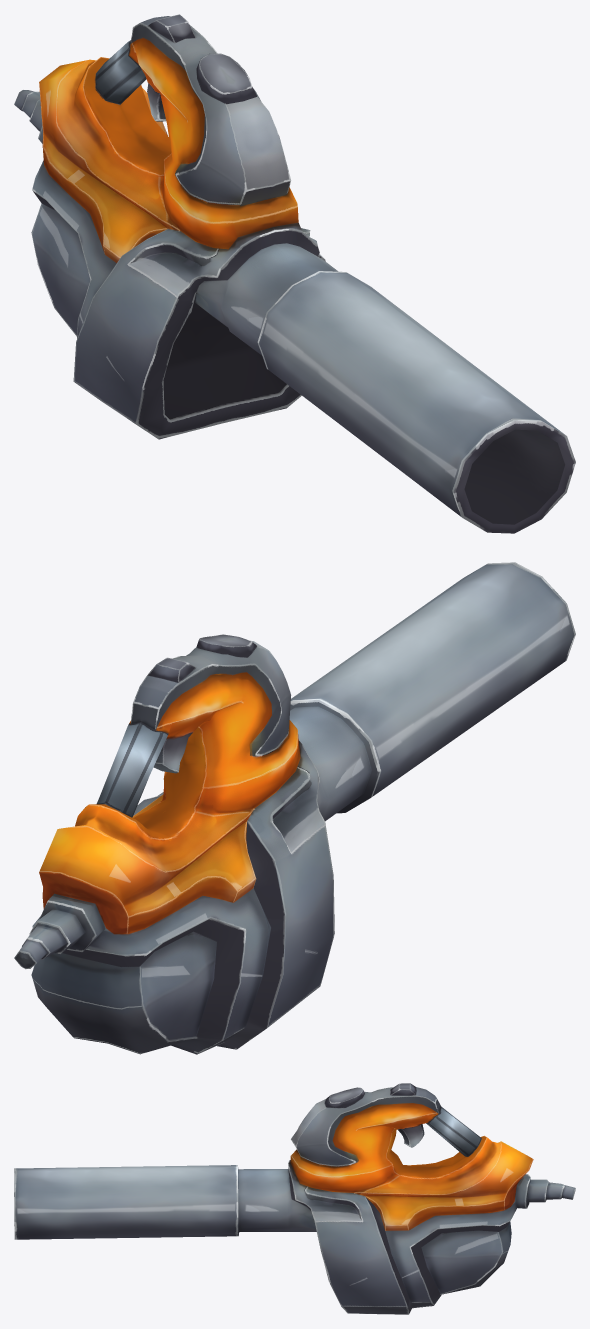
3 views of the same model, one above another, from view 1: azimuth 30°, elevation 25°; view 2: azimuth 150°, elevation 25°; view 3: azimuth 270°, elevation 25° (orthographic). The views are drawn at different scales.
Parts seen in each view (by area): view 1: Plane; view 2: Plane; view 3: Plane.
Boxes of the visible parts, x1,y1,x2,y2 form: Plane: (14, 14, 575, 533); Plane: (14, 562, 575, 1054); Plane: (14, 1083, 575, 1314).
Size of the model in its own units: 1.08 by 1.85 by 4.44.
1 material, 1 textured.
